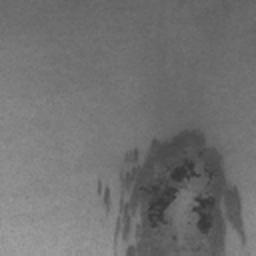Iron sheet ash: (113, 129, 247, 256), (96, 177, 111, 214)
